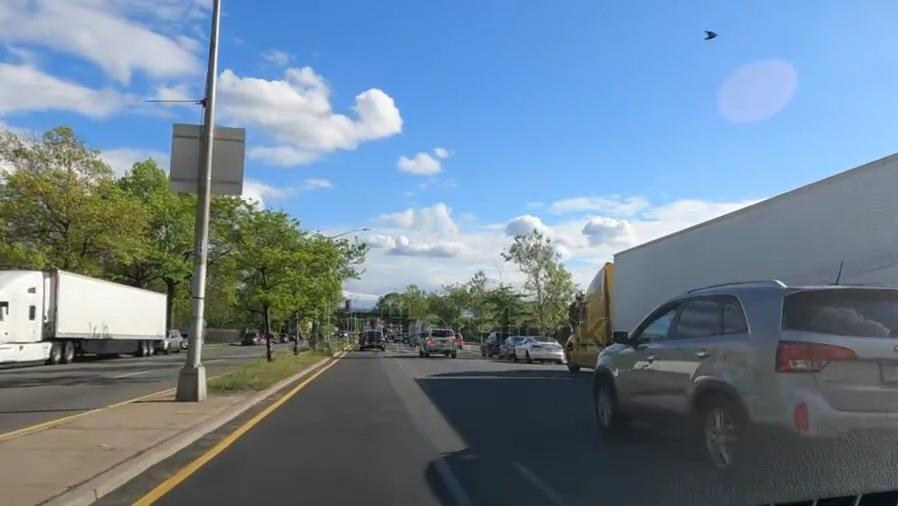bird: (702, 27, 720, 43)
car: (591, 293, 898, 433), (517, 335, 562, 360), (420, 329, 456, 356), (359, 330, 386, 351), (160, 330, 182, 352), (500, 335, 520, 356), (482, 332, 497, 356), (239, 333, 260, 346)
truck: (567, 200, 898, 373), (1, 269, 167, 361)
wheel: (682, 388, 750, 469), (590, 374, 624, 438)
